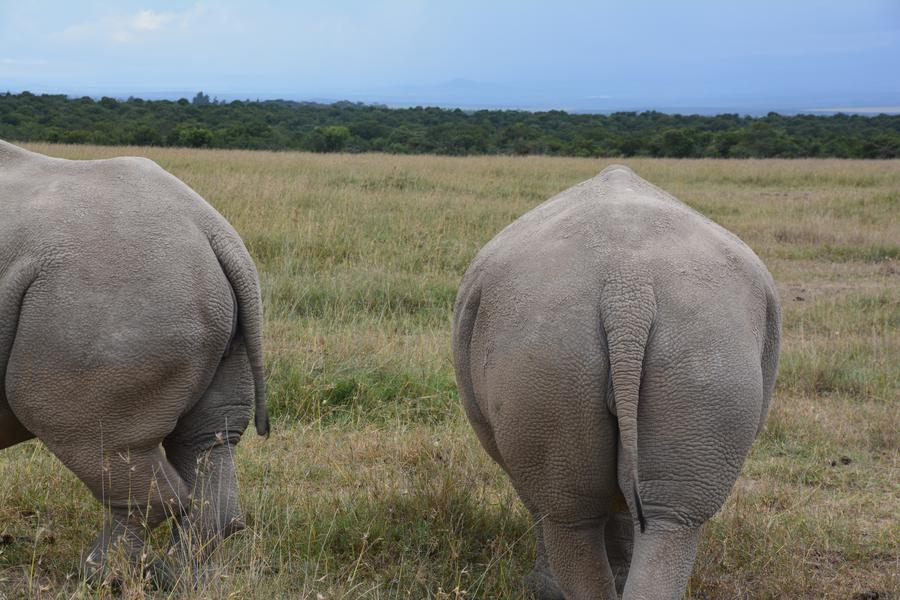rhino: (434, 167, 788, 574), (19, 132, 259, 538)
